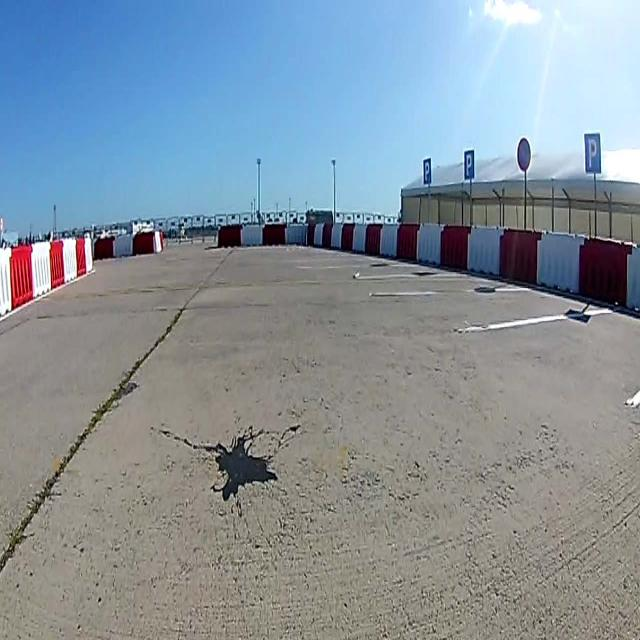park: (584, 132, 602, 176), (464, 150, 474, 181), (422, 157, 432, 186)
parkyasak: (516, 137, 531, 171)
